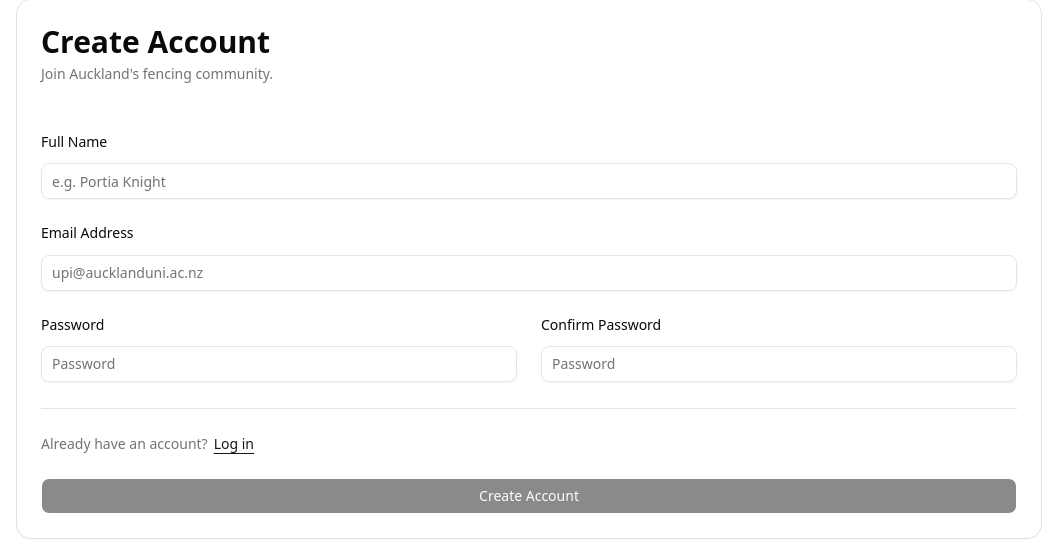
Test: RegisterForm › disables the submit button until the form is valid
This screenshot has width=1059, height=556.
Check: the button "Create Account" is disabled, box [41,478,1017,514]
Type "Jane Doe" into the field with placeholder "e.g. Portia Knight". click: (529, 181)
box: [41,163,1017,199]
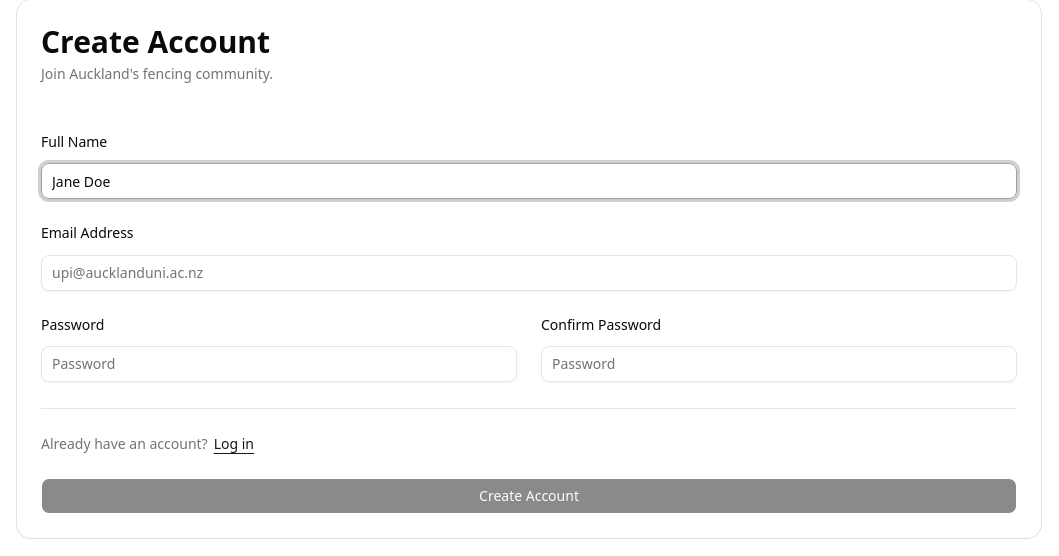
Type "jane@example.com" into the field with placeholder "upi@aucklanduni.ac.nz". click: (529, 272)
box: [41,254,1017,290]
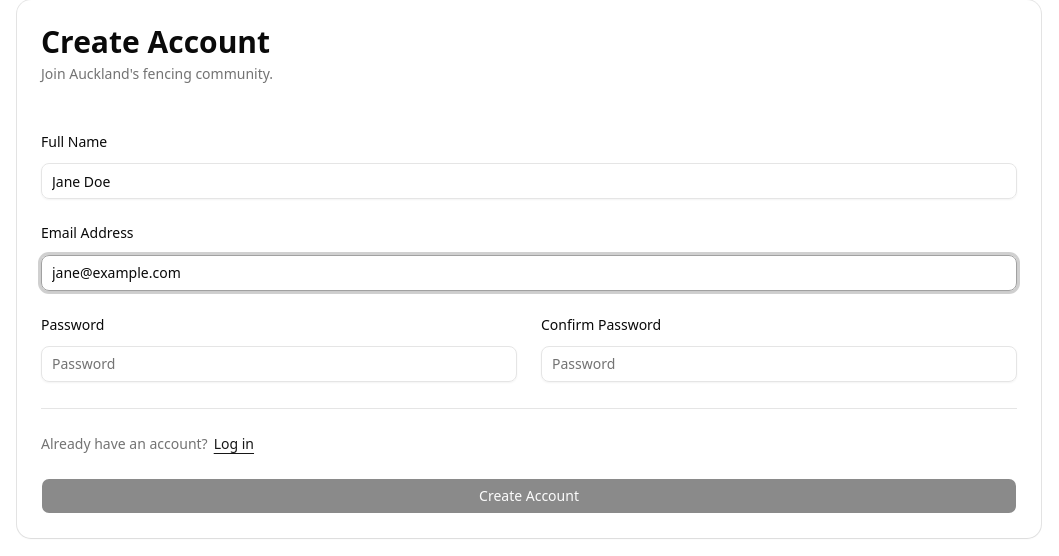
Type "password123" into the password field labelled "Password". click: (279, 364)
box: [41,346,517,382]
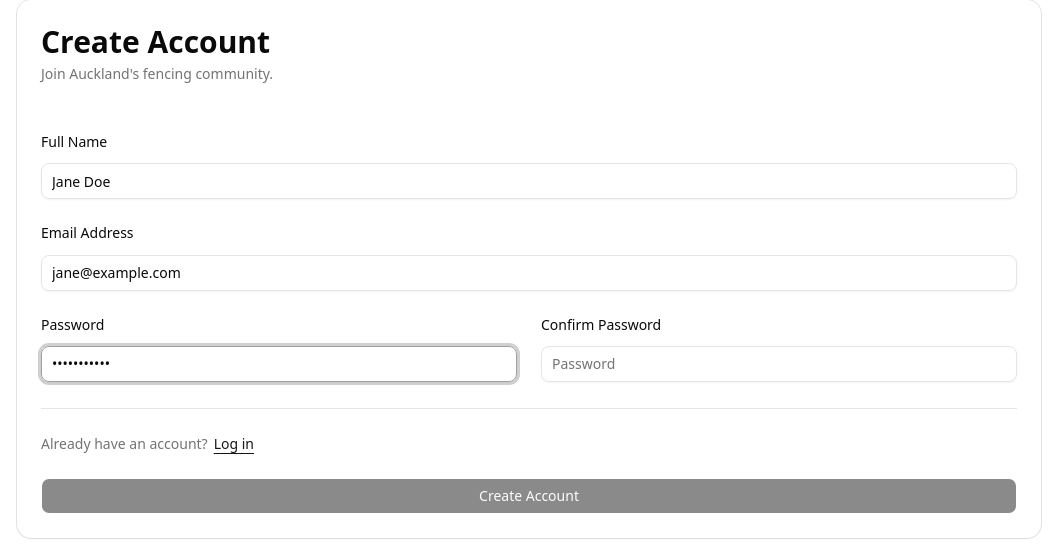
Type "password123" into the password field labelled "Confirm Password". click: (779, 364)
box: [541,346,1017,382]
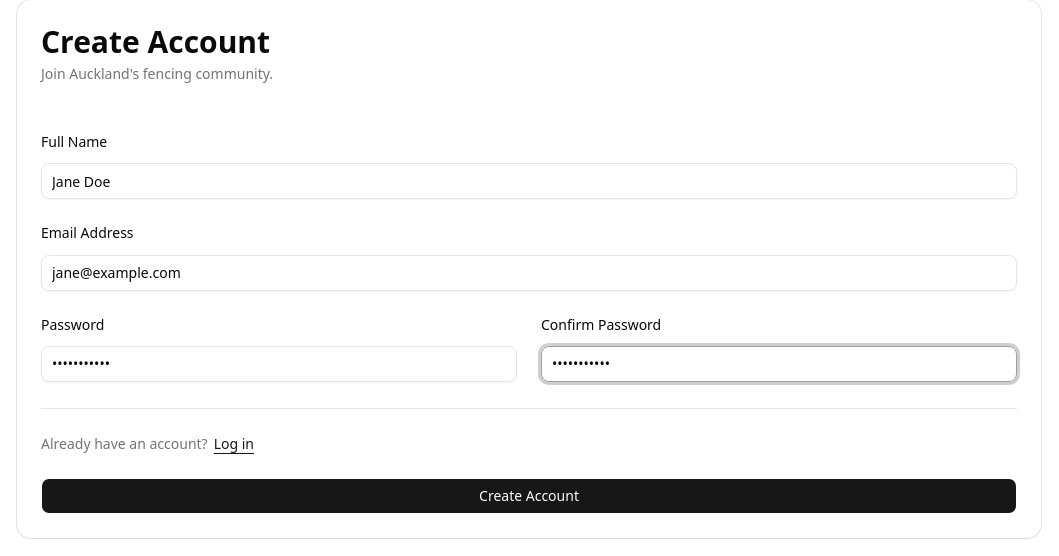
Check: the button "Create Account" is enabled, box [41,478,1017,514]
